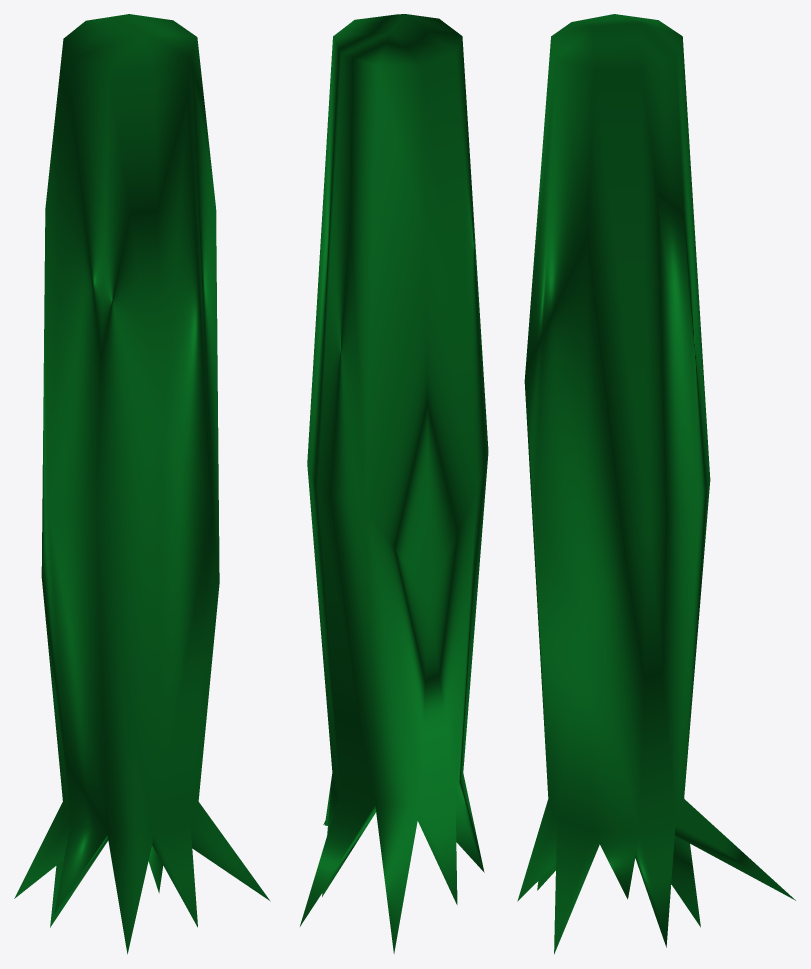
Rendered from SeguaroCactusMedium2_LOD1.obj.
The picture shows the model from 3 angles, left to right: view 1: azimuth 30°, elevation 25°; view 2: azimuth 150°, elevation 25°; view 3: azimuth 270°, elevation 25°; orthographic projection. The views are drawn at different scales.
Parts seen in each view (by area): view 1: SeguaroCactusMedium2_LOD1; view 2: SeguaroCactusMedium2_LOD1; view 3: SeguaroCactusMedium2_LOD1.
Boxes of the visible parts, <box> form: SeguaroCactusMedium2_LOD1: <box>14,14,270,954</box>; SeguaroCactusMedium2_LOD1: <box>300,14,488,953</box>; SeguaroCactusMedium2_LOD1: <box>517,14,795,954</box>.
Size of the model in its own units: 68.51 by 306 by 84.03.
